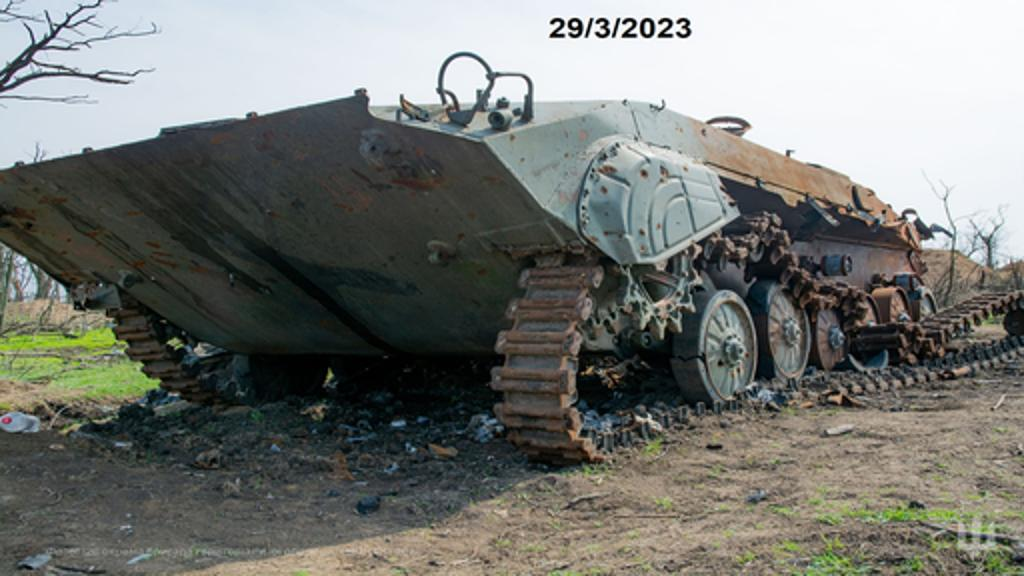APC-IFV: (0, 72, 946, 426)
